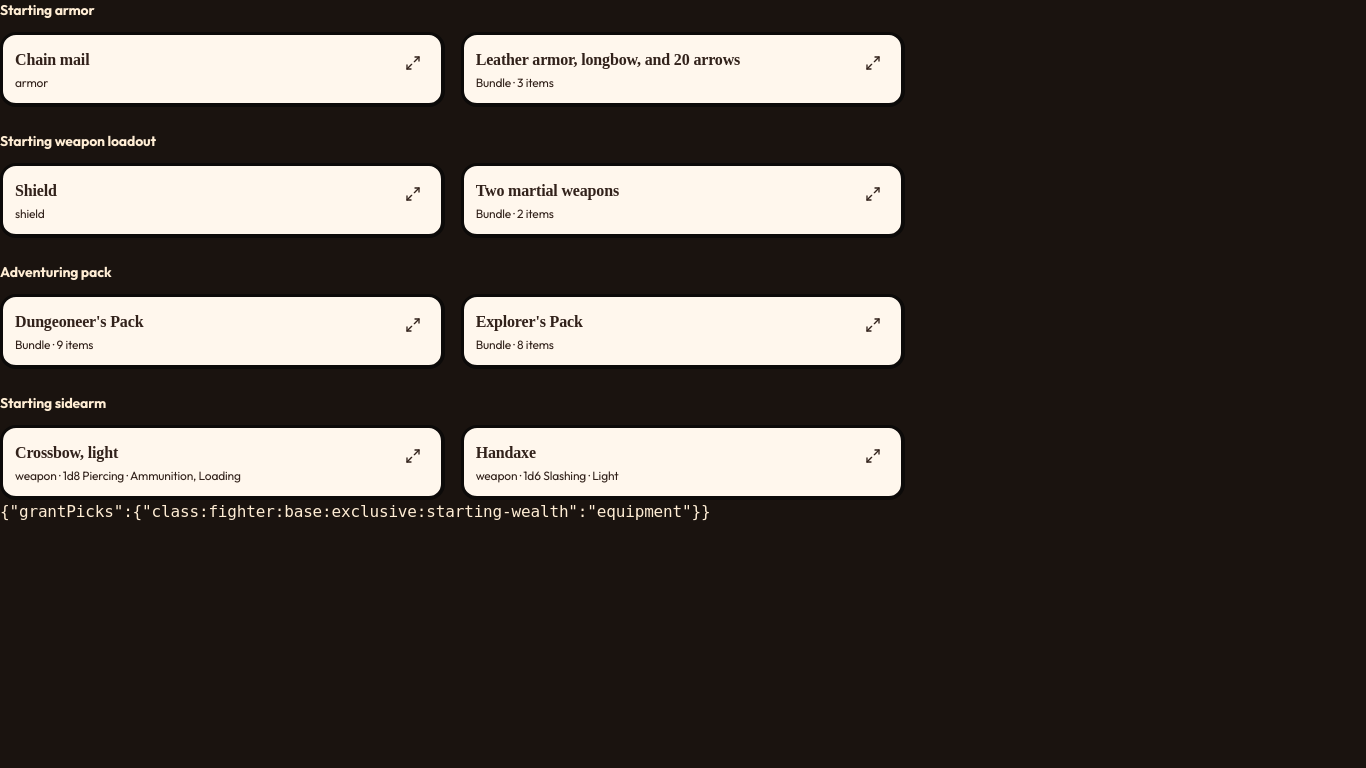
Test: ItemChoiceGrid › selects, deselects, and opens detail modal for an item option
What coordinates should you click on to do the following:
click the button "Crossbow, light weapon · 1d8 Piercing · Ammunition, Loading"
I would click on:
 (67, 452)
Its box is [15,440,389,484].
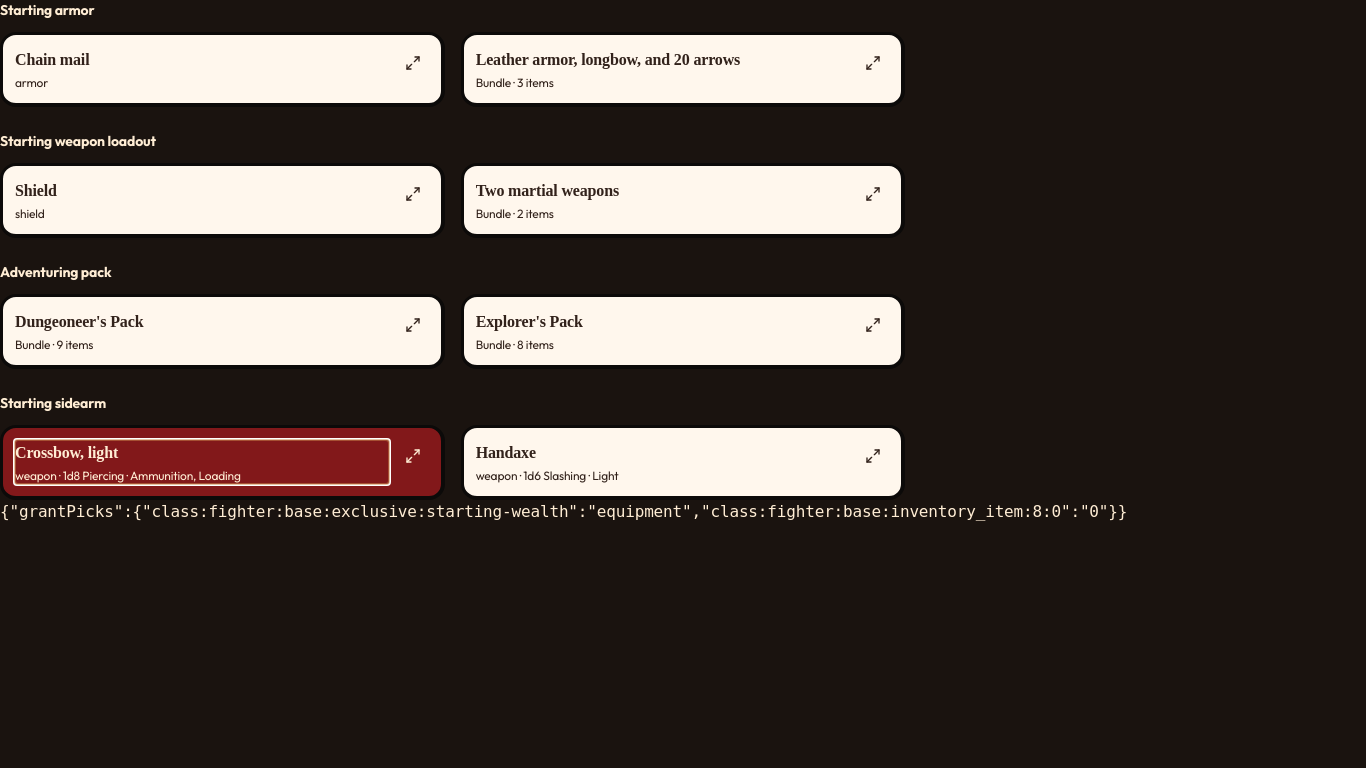
Check: the text with test id "choices-output" shows "class:fighter:base:inventory_item:8:0", box [0,502,1127,521]
What coordinates should you click on to do the following:
click the button "Crossbow, light weapon · 1d8 Piercing · Ammunition, Loading"
I would click on:
 (67, 452)
Its box is [15,440,389,484].
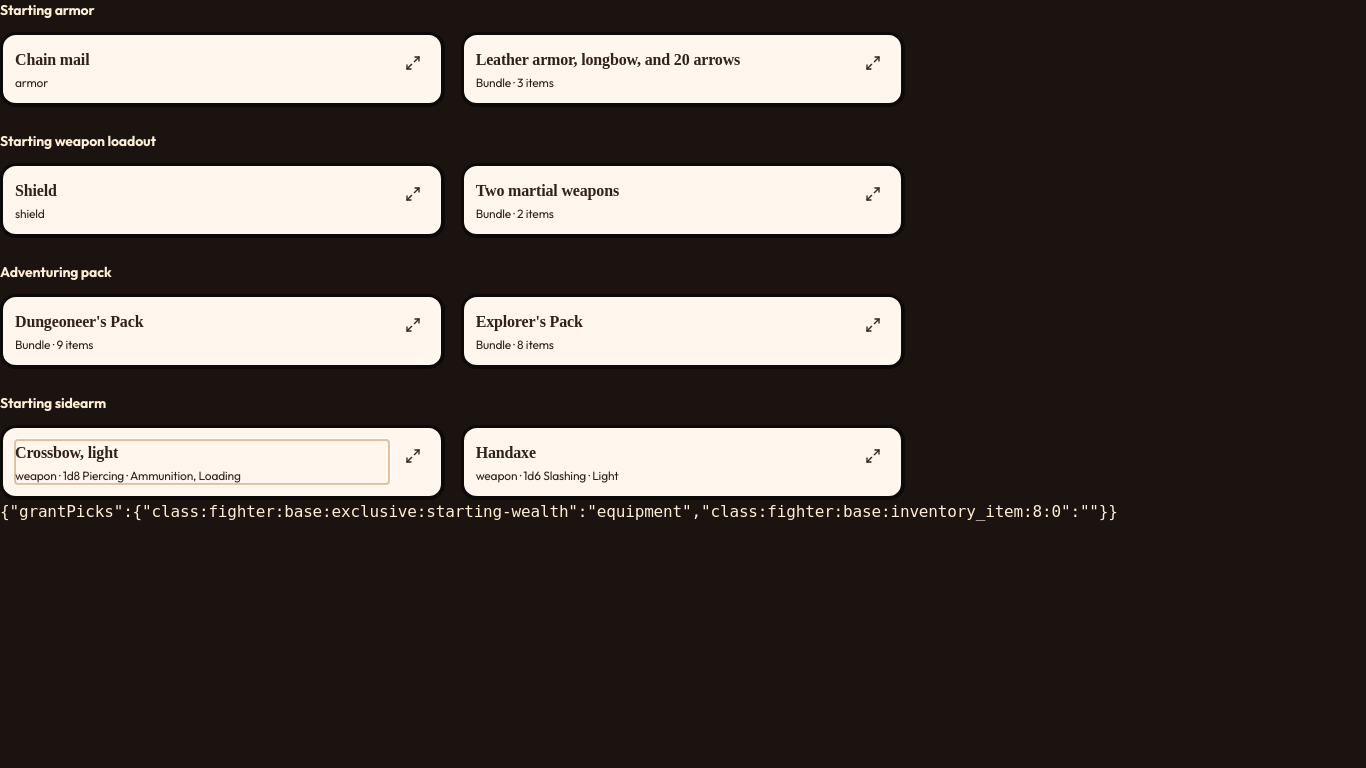
What coordinates should you click on to do the following:
click the 7th button named "View details"
I would click on:
 (413, 456)
Its box is [397,440,429,472].
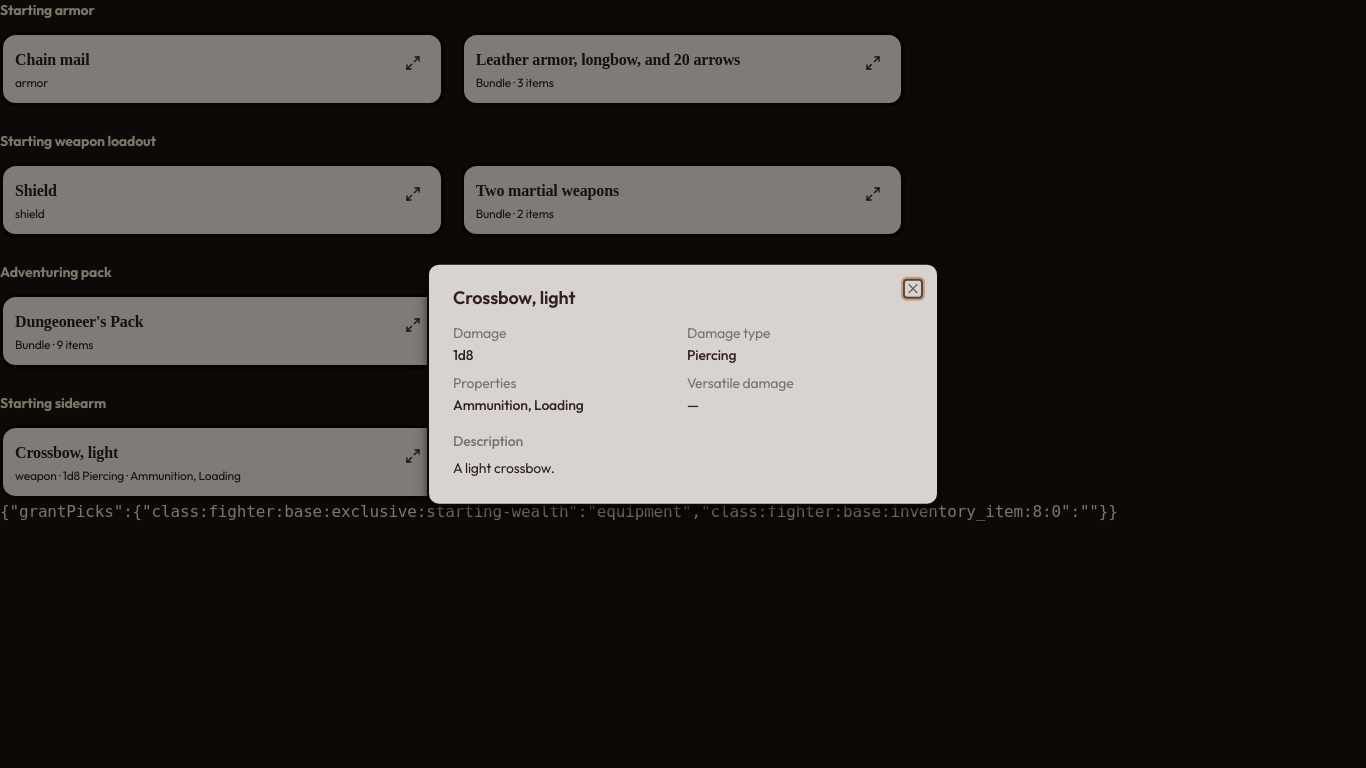
Check: the dialog is shown, box [427,263,939,505]
